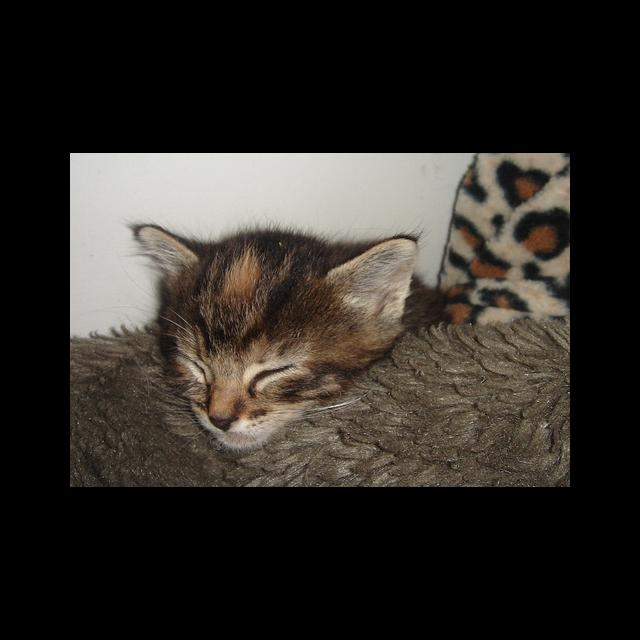animals: (137, 234, 414, 428)
